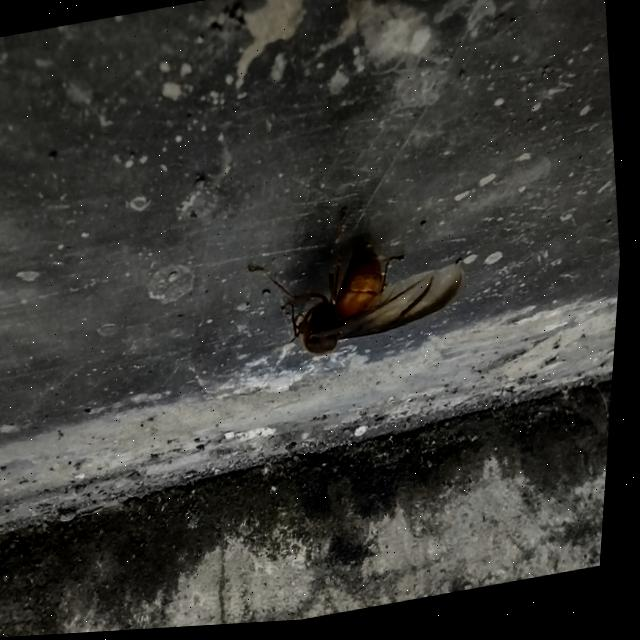Alive-Male-Alate: (241, 191, 478, 369)
